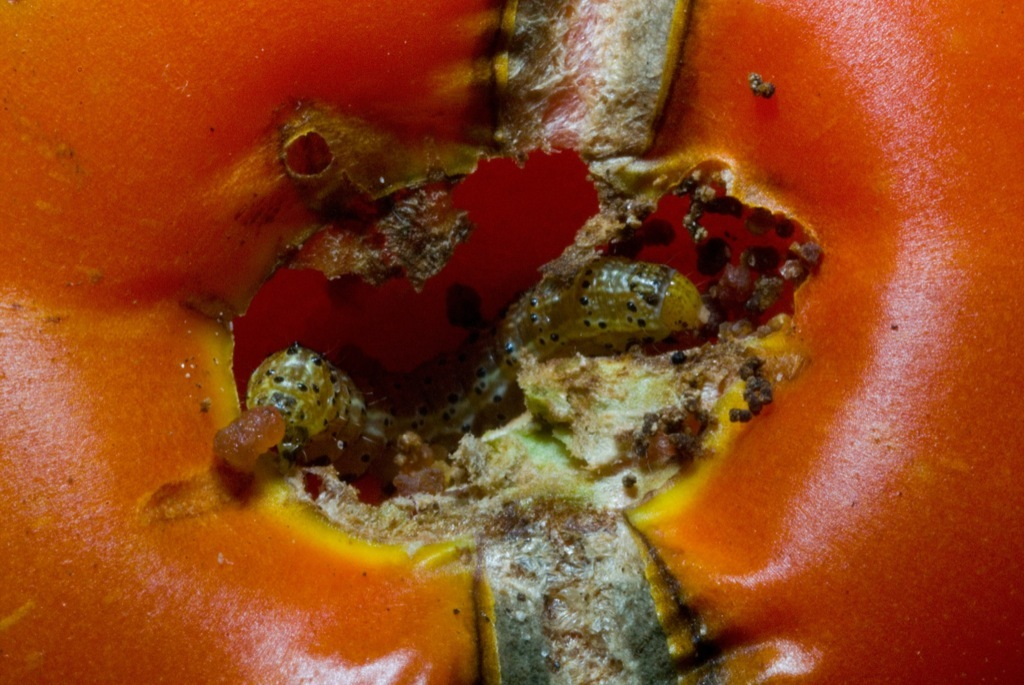Tomato: (1, 0, 1024, 684)
